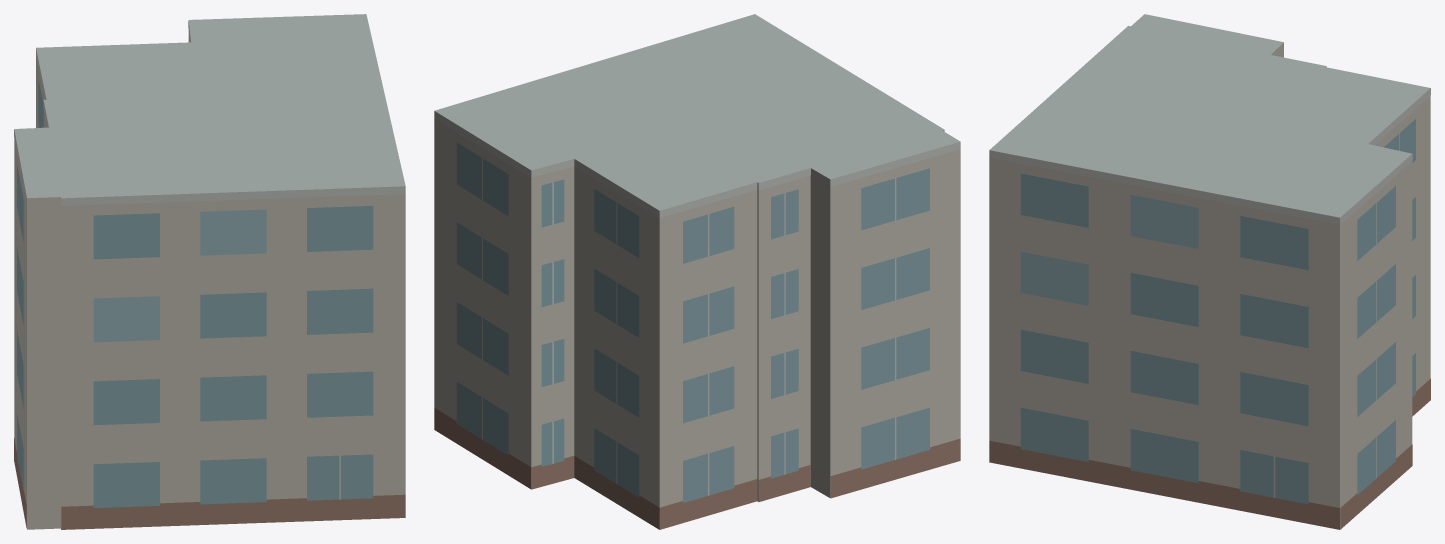
Rendered from survey-upis-33036696.glb.
3 views of the same model, side by side, from view 1: azimuth 30°, elevation 25°; view 2: azimuth 150°, elevation 25°; view 3: azimuth 270°, elevation 25° (orthographic). The views are drawn at different scales.
Parts seen in each view (by area): view 1: survey-upis-33036696.tmp; view 2: survey-upis-33036696.tmp; view 3: survey-upis-33036696.tmp.
Boxes of the visible parts, x1=… form: survey-upis-33036696.tmp: x1=14, y1=14, x2=405, y2=529; survey-upis-33036696.tmp: x1=434, y1=14, x2=960, y2=529; survey-upis-33036696.tmp: x1=989, y1=14, x2=1430, y2=529.
Size of the model in its own units: 14.56 by 10.4 by 13.34.
